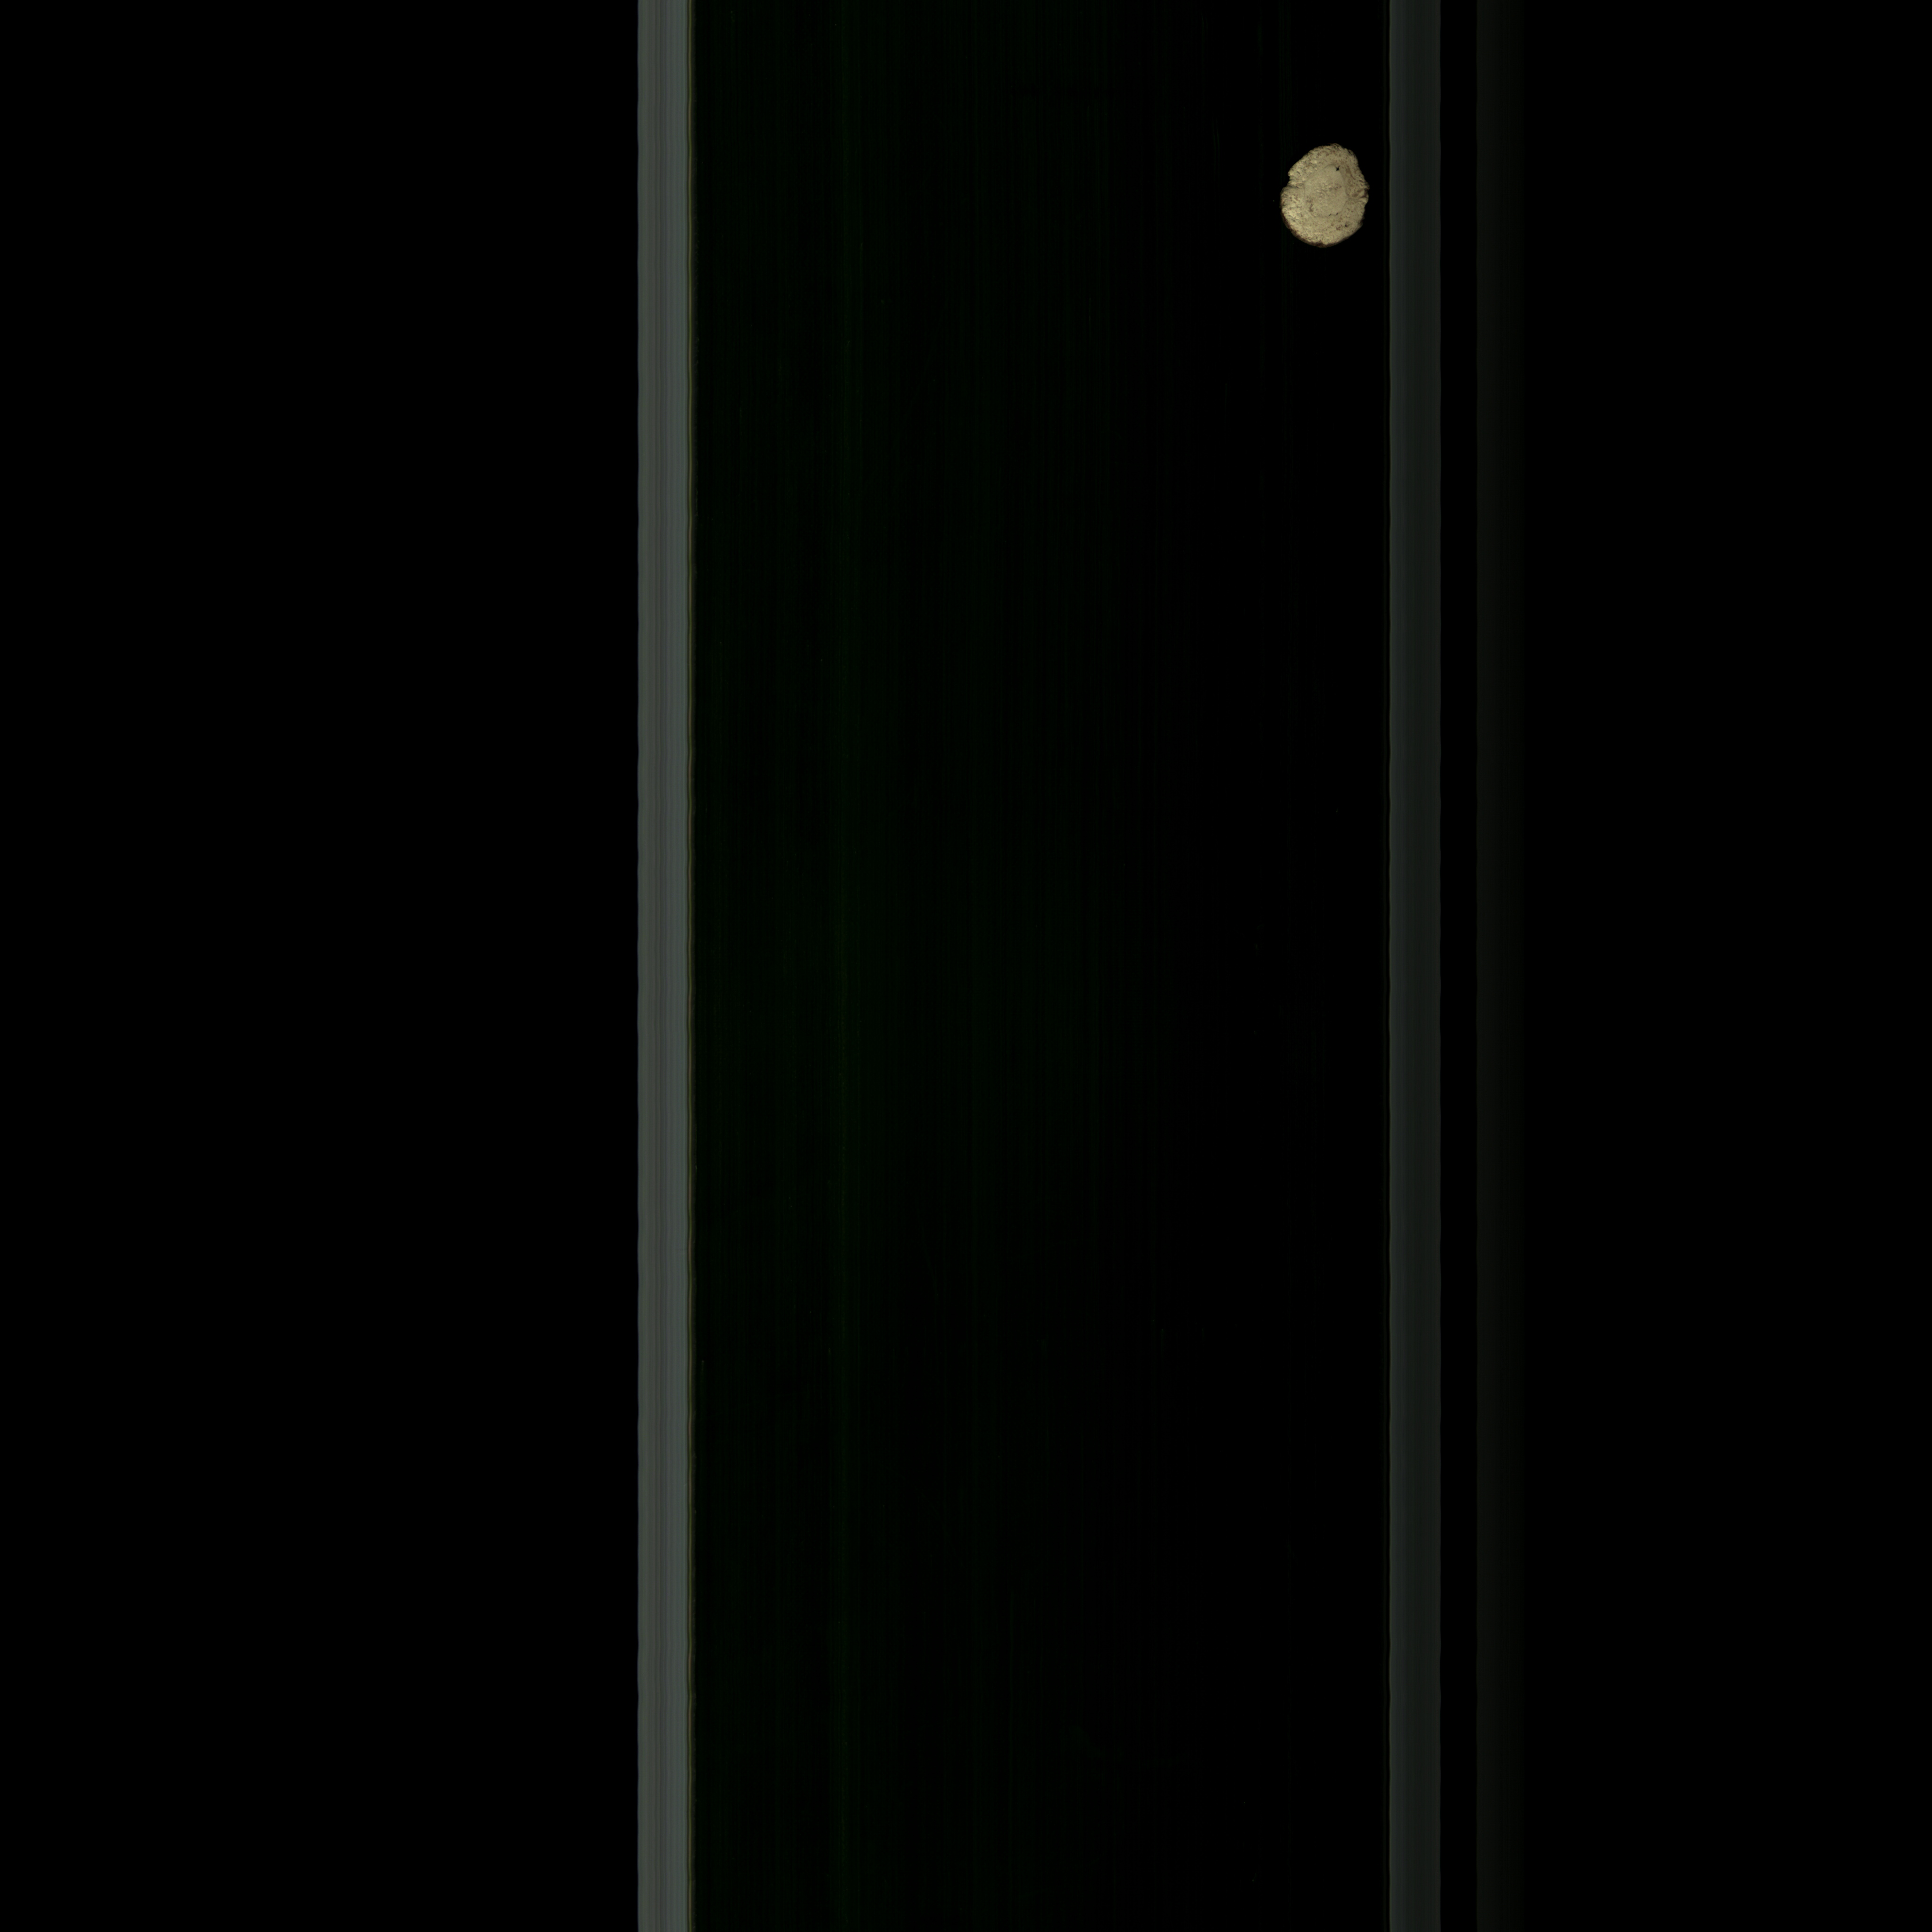moldy: (1270, 134, 1375, 257)
